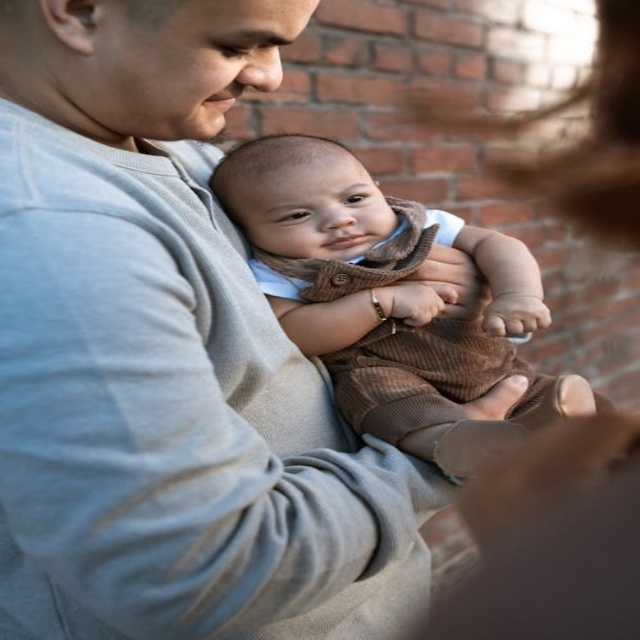Sin_gafas: (148, 20, 312, 66), (255, 178, 378, 228)
Sin_guantes: (396, 245, 491, 324), (480, 294, 552, 338)
Sin_mascara: (160, 87, 257, 138), (312, 229, 375, 257)
